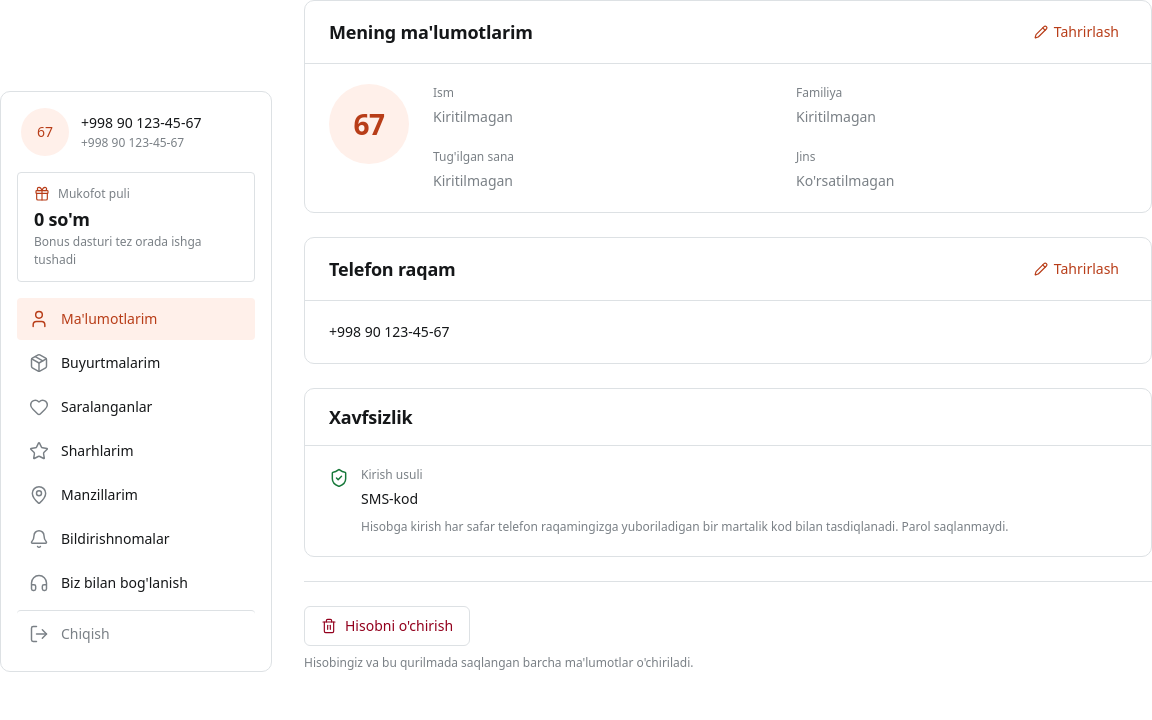
Test case: AccountCabinet › saves the edited details onto the card and into the store
The image size is (1152, 720).
Click the button "Tahrirlash" in the row of "Mening ma'lumotlarim": coordinates (1076, 32) [1026, 17, 1127, 47]
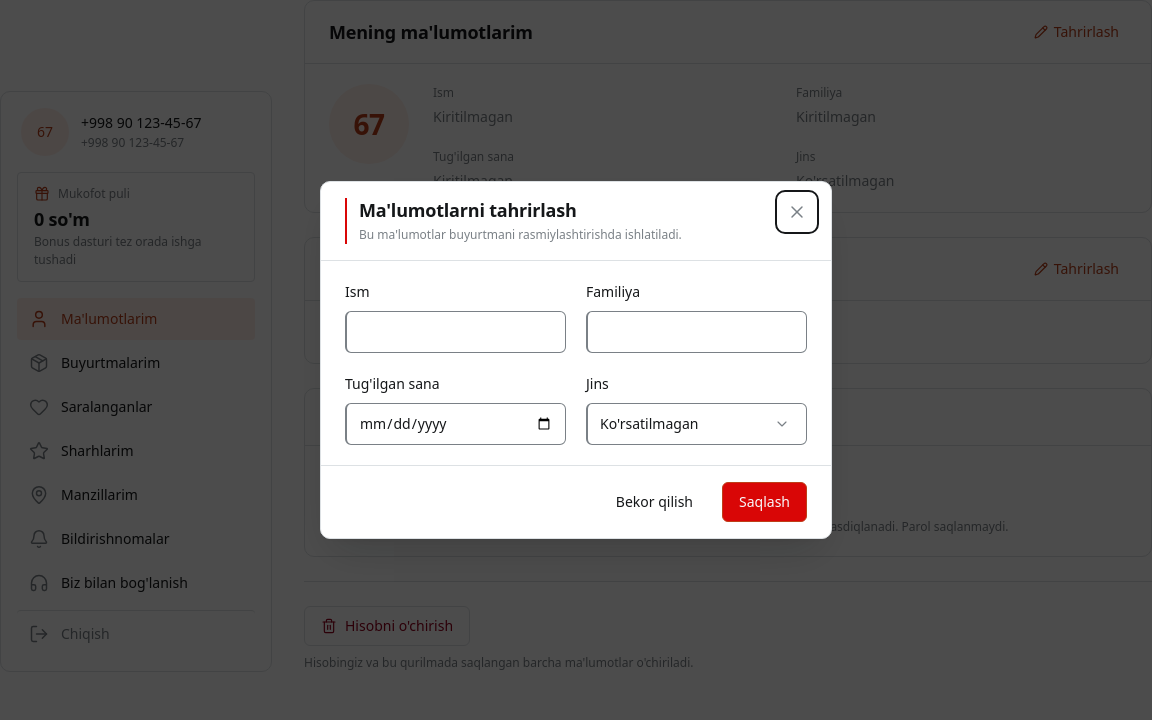
In the field labelled "Ism": coordinates (456, 332) [359, 312, 553, 352], type "Aziz"
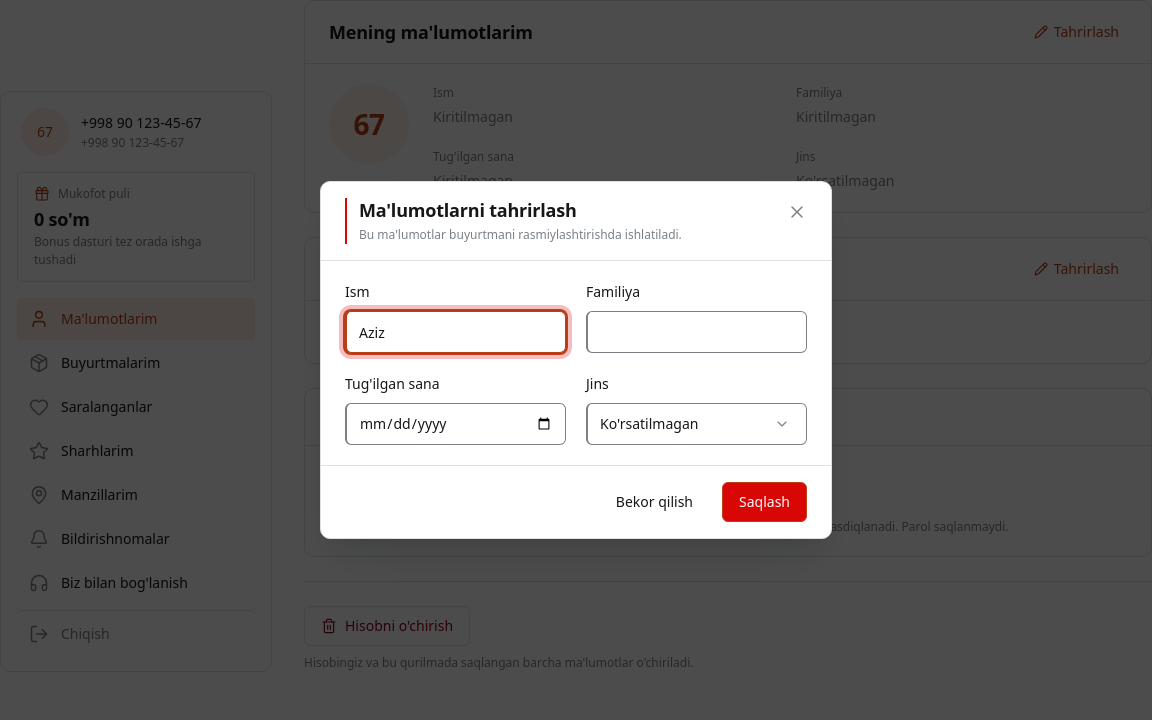
In the field labelled "Familiya": coordinates (697, 332) [600, 312, 794, 352], type "Karimov"
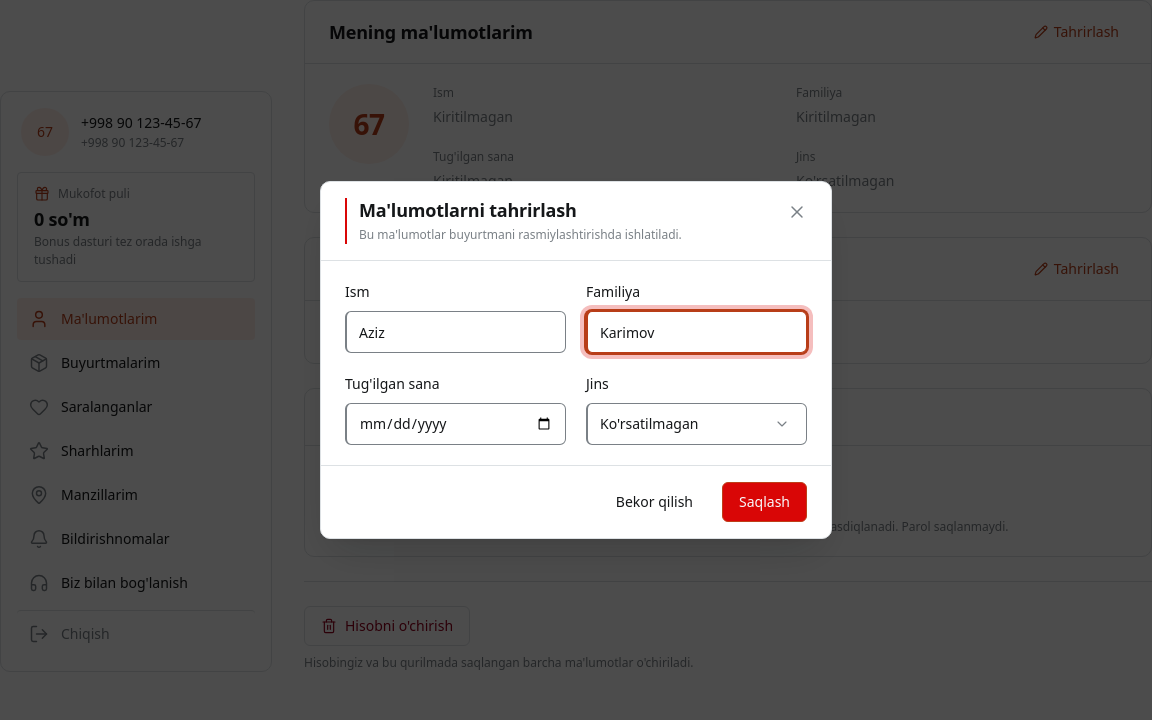
Select "Erkak" in the dropdown labelled "Jins": coordinates (697, 424) [600, 404, 794, 444]
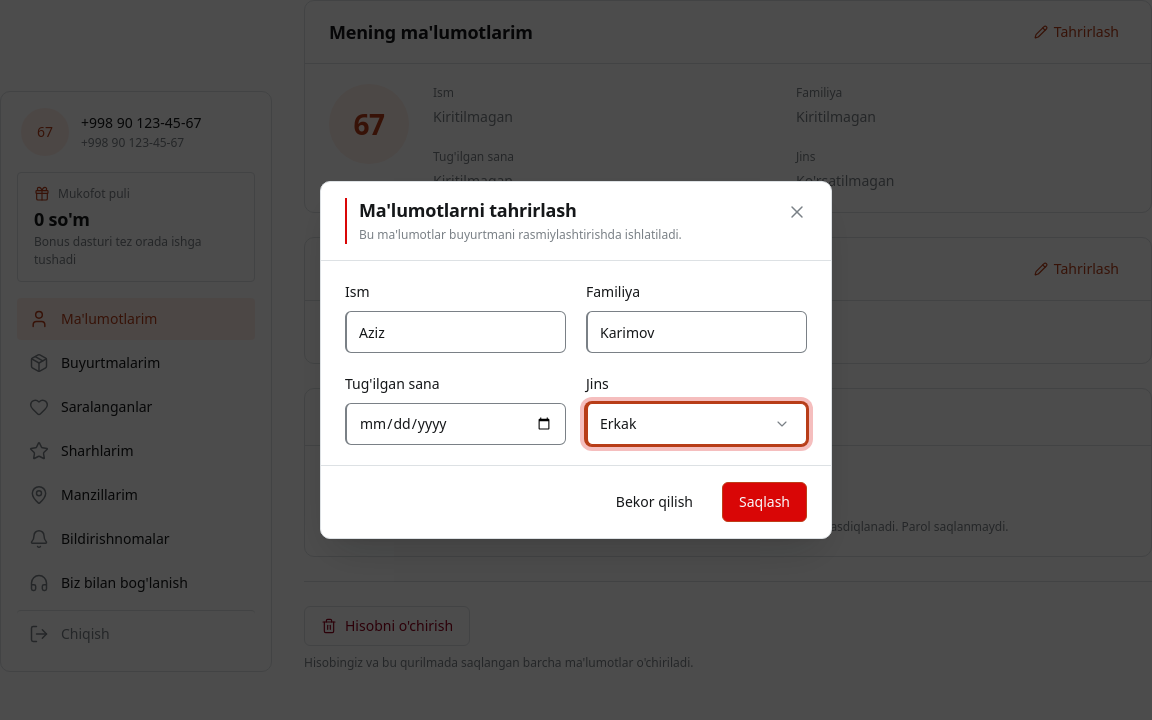
Click the button "Saqlash": coordinates (764, 502) [722, 482, 807, 522]
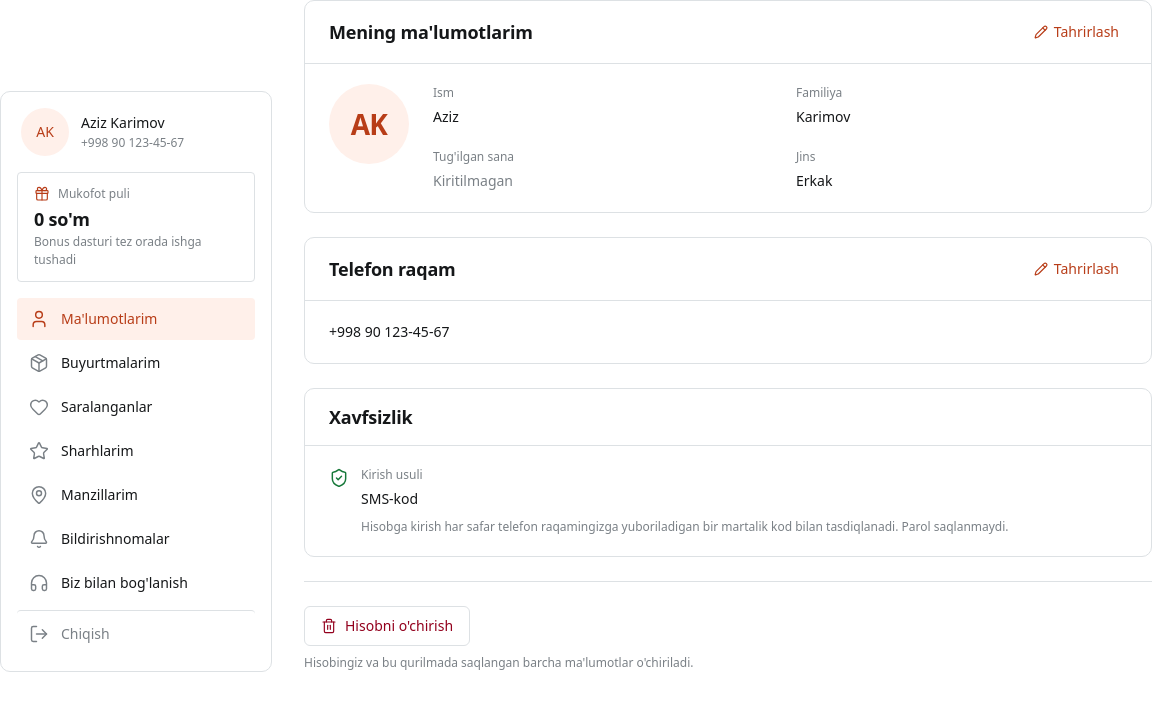
Now the dialog is gone
Now the text "Aziz Karimov" is shown, box [81, 113, 165, 132]
Now the text "Erkak" is shown, box [796, 171, 832, 190]
